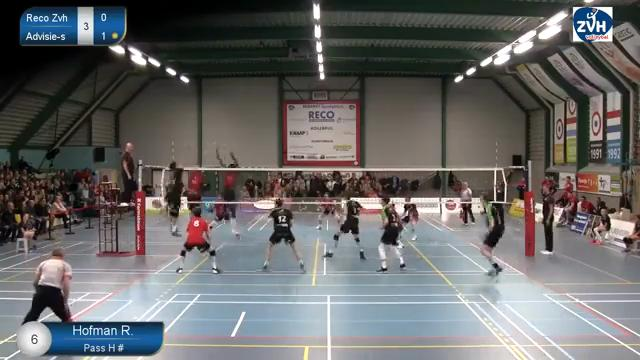attacco: (160, 156, 188, 241)
muro: (214, 144, 246, 243), (184, 142, 209, 240)
